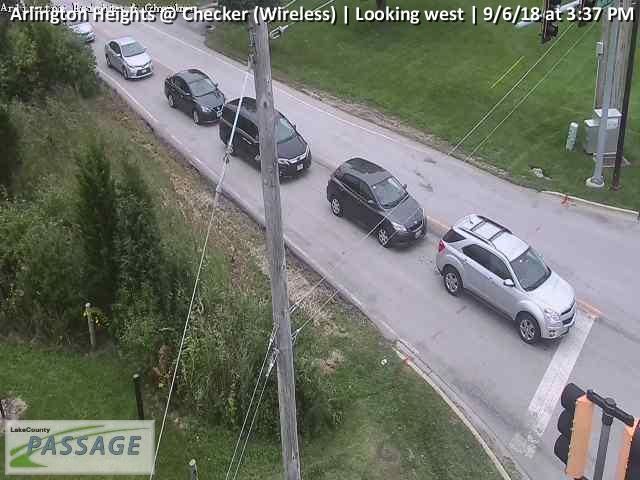SUV: (434, 212, 577, 346), (218, 97, 312, 180)
Sedan: (324, 158, 427, 250), (164, 68, 225, 123), (103, 37, 154, 80), (60, 13, 98, 43)
